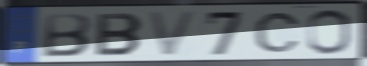7: (204, 10, 246, 57)
B: (40, 12, 94, 59), (94, 12, 145, 58)
C: (253, 11, 303, 54)
O: (305, 8, 353, 56)
V: (146, 9, 200, 58)
